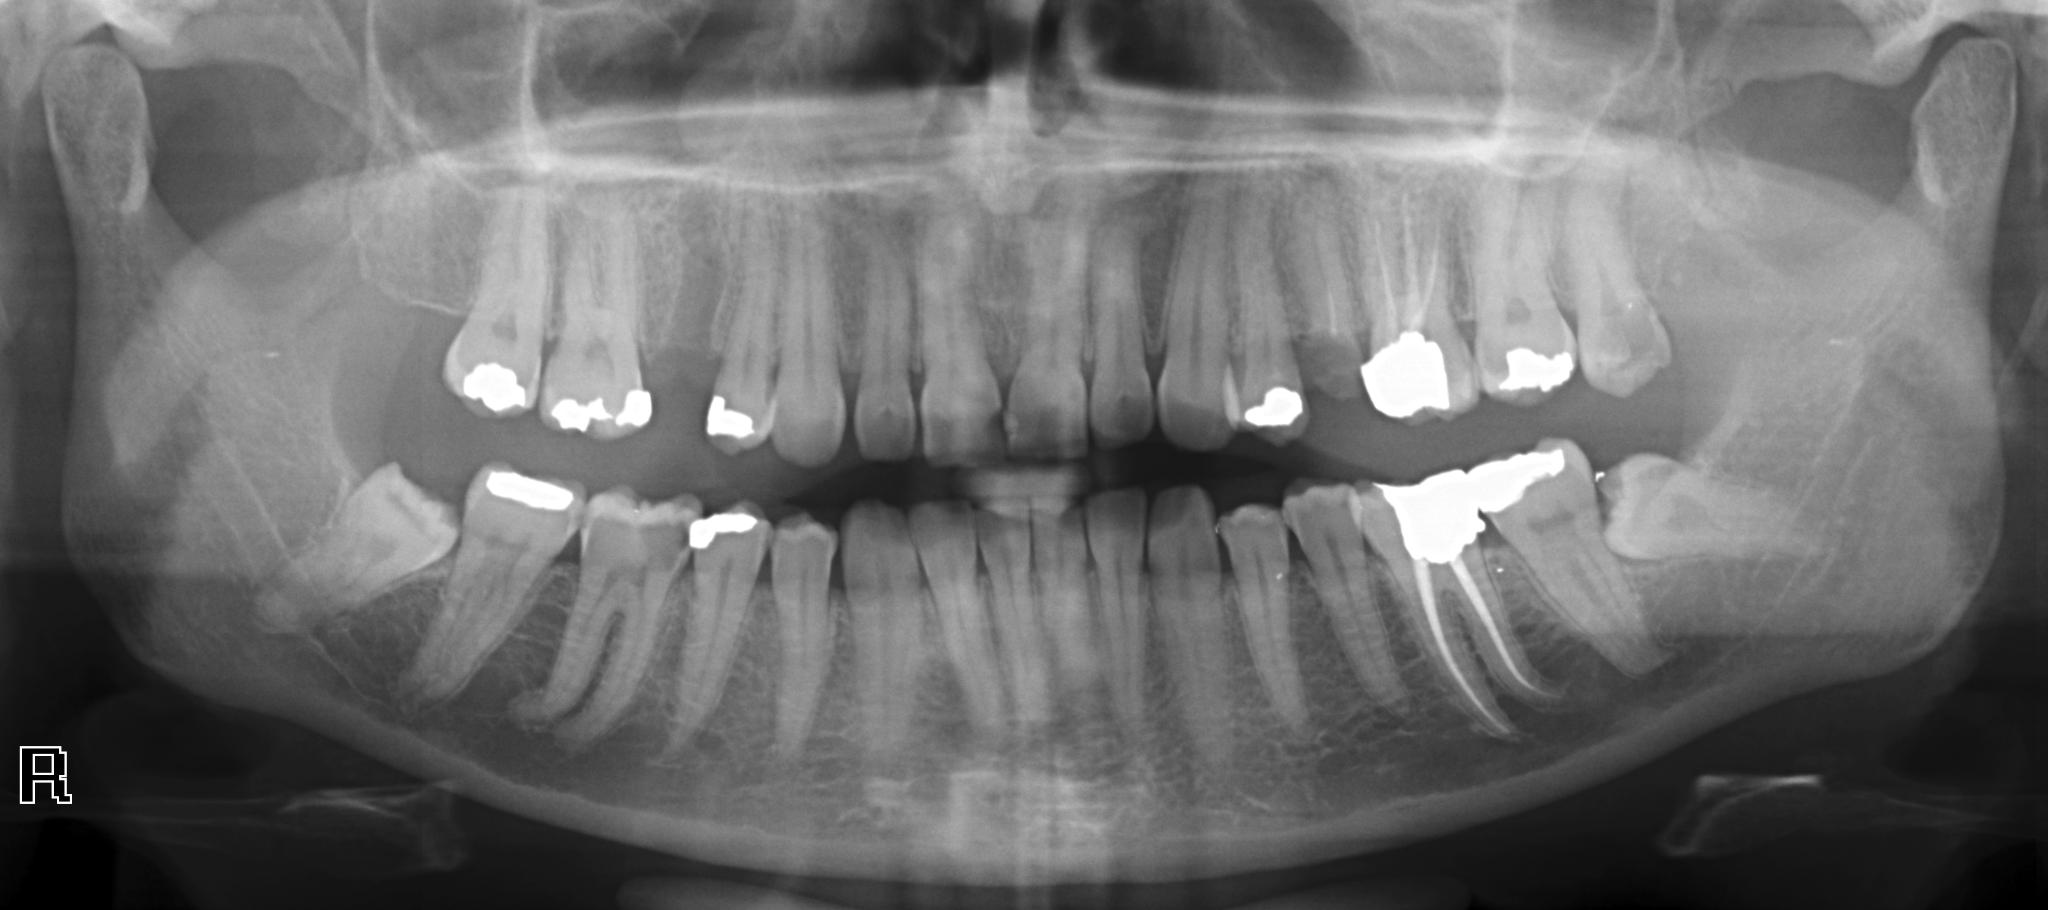Fillings: (1478, 438, 1641, 667), (423, 465, 584, 693), (433, 184, 560, 429), (1461, 171, 1577, 408), (678, 497, 772, 741), (697, 218, 784, 454)
Impacted Tooth: (248, 461, 455, 638), (1600, 444, 1787, 588)
Implant: (1360, 459, 1530, 740), (1350, 167, 1473, 438)
